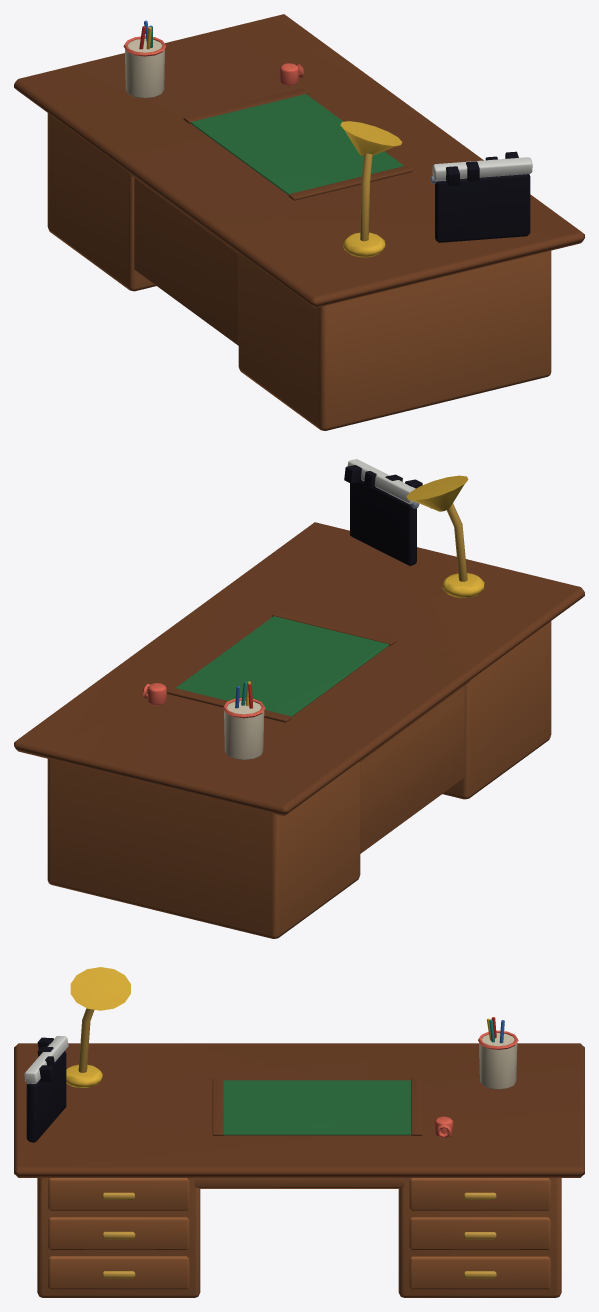
Rendered from SM_Office_DirectorDesk.fbx.
3 renders of one model, top to bottom at view 1: azimuth 30°, elevation 25°; view 2: azimuth 150°, elevation 25°; view 3: azimuth 270°, elevation 25°, orthographic. The views are drawn at different scales.
Visible parts, largest first — view 1: SM_Office_DirectorDesk; view 2: SM_Office_DirectorDesk; view 3: SM_Office_DirectorDesk.
Boxes of the visible parts, box(x1,y1,x2,y2) form: SM_Office_DirectorDesk: box(14, 14, 584, 430); SM_Office_DirectorDesk: box(14, 459, 584, 938); SM_Office_DirectorDesk: box(14, 967, 584, 1297).
Bounding box in the file's own units: 166 × 154 × 316.
